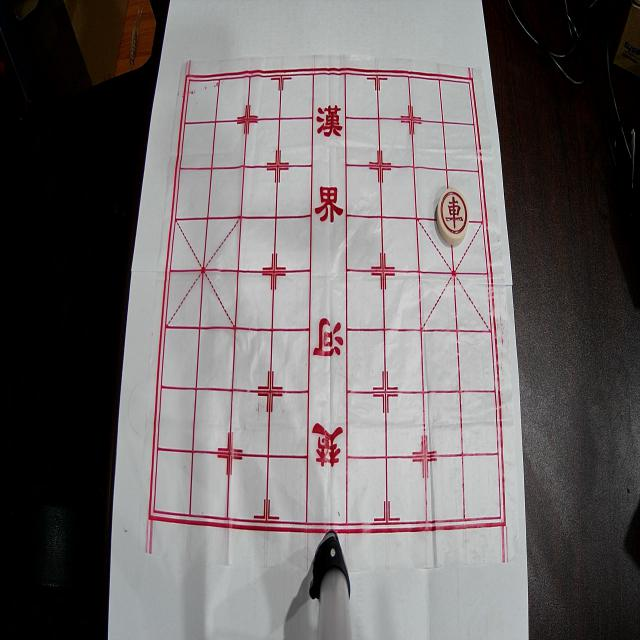red-chariot: (437, 188, 469, 245)
